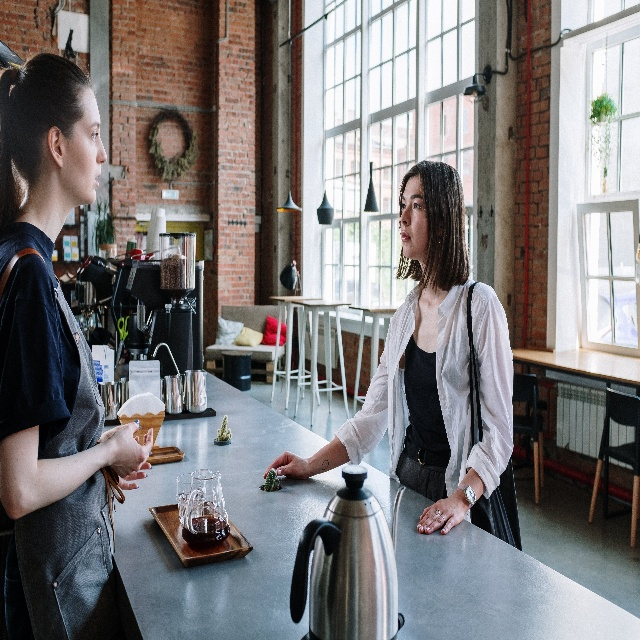Sin_guantes: (99, 418, 154, 488), (107, 423, 155, 479), (416, 493, 467, 536), (262, 447, 310, 484)
